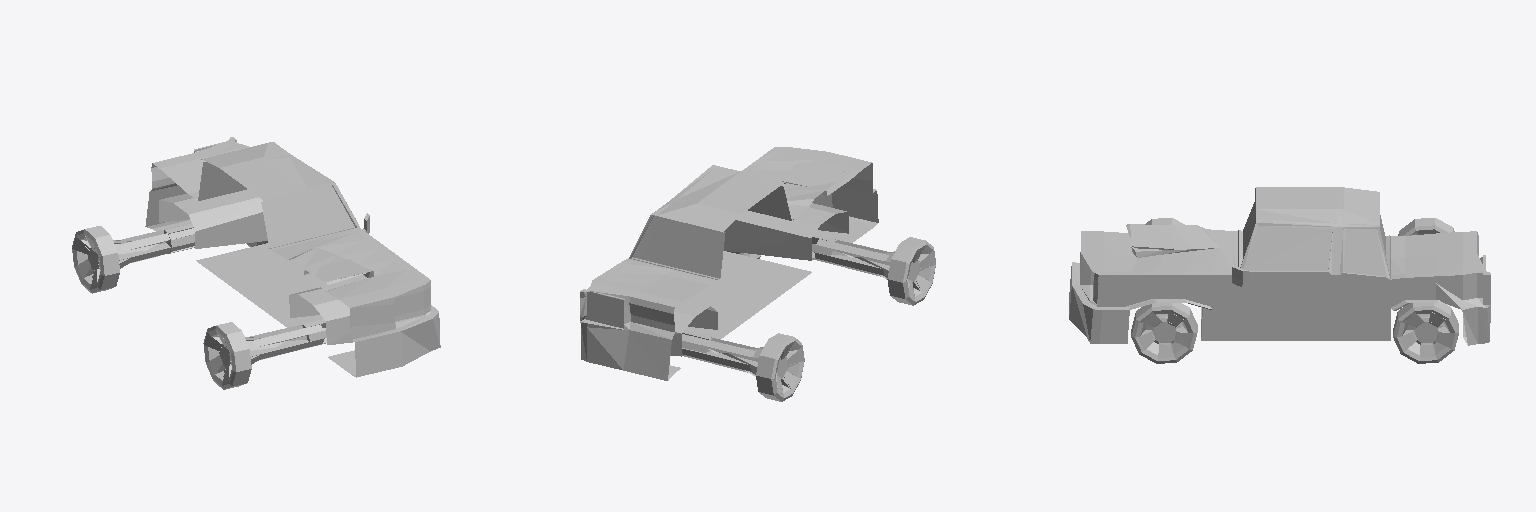
Rendered from autocolorwheels.obj.
3 renders of one model, left to right at view 1: azimuth 30°, elevation 25°; view 2: azimuth 150°, elevation 25°; view 3: azimuth 270°, elevation 25°, orthographic.
Visible parts, largest first — view 1: Cube, Cylinder.001; view 2: Cube, Cylinder.001; view 3: Cube, Cylinder.001.
Boxes of the visible parts, box(x1,y1,x2,y2) form: Cube: box(145, 137, 440, 377); Cylinder.001: box(72, 223, 326, 389); Cube: box(580, 147, 878, 380); Cylinder.001: box(682, 234, 935, 401); Cube: box(1069, 187, 1490, 345); Cylinder.001: box(1131, 218, 1458, 363).
Size of the model in its own units: 4.36 by 2.88 by 8.33.